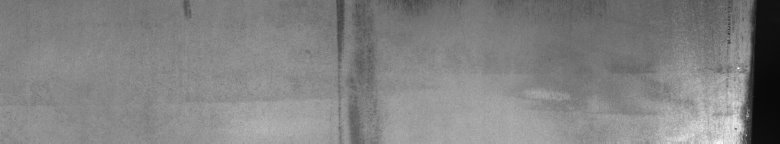ka: (306, 4, 416, 136)
